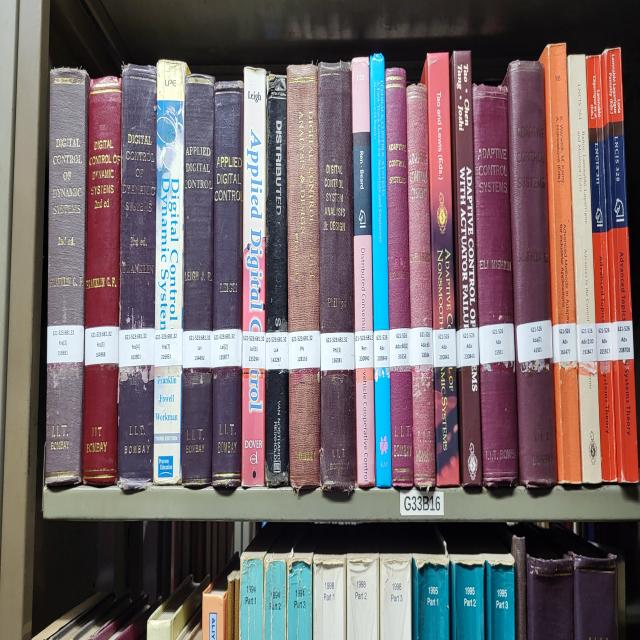Book: (504, 60, 558, 487), (472, 84, 519, 487), (45, 68, 90, 484), (540, 43, 581, 484), (421, 51, 460, 487), (601, 49, 639, 482), (318, 62, 356, 492), (82, 76, 121, 484), (119, 65, 156, 490), (286, 65, 320, 490), (568, 54, 601, 484), (450, 51, 482, 487), (181, 73, 214, 487), (154, 60, 186, 484), (212, 81, 244, 487), (586, 54, 616, 482), (385, 68, 414, 487), (406, 84, 436, 487), (351, 57, 376, 487), (241, 68, 266, 487), (265, 73, 289, 487), (370, 54, 391, 487)
Label: (516, 319, 552, 363), (479, 322, 515, 365), (119, 327, 155, 368), (48, 325, 84, 363), (320, 333, 355, 371), (85, 327, 119, 365), (289, 330, 320, 371), (182, 330, 212, 368), (212, 330, 242, 368), (155, 327, 182, 368), (432, 327, 456, 368), (456, 327, 479, 368), (265, 333, 289, 371), (389, 327, 411, 368), (242, 330, 265, 368), (411, 327, 434, 365), (355, 330, 374, 371), (374, 330, 390, 368)
